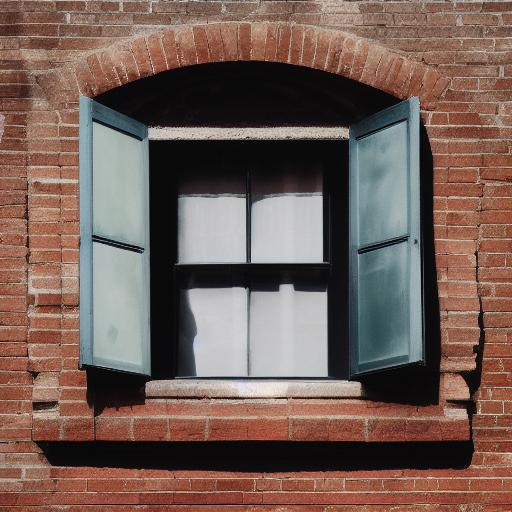Window: (27, 20, 484, 466)
